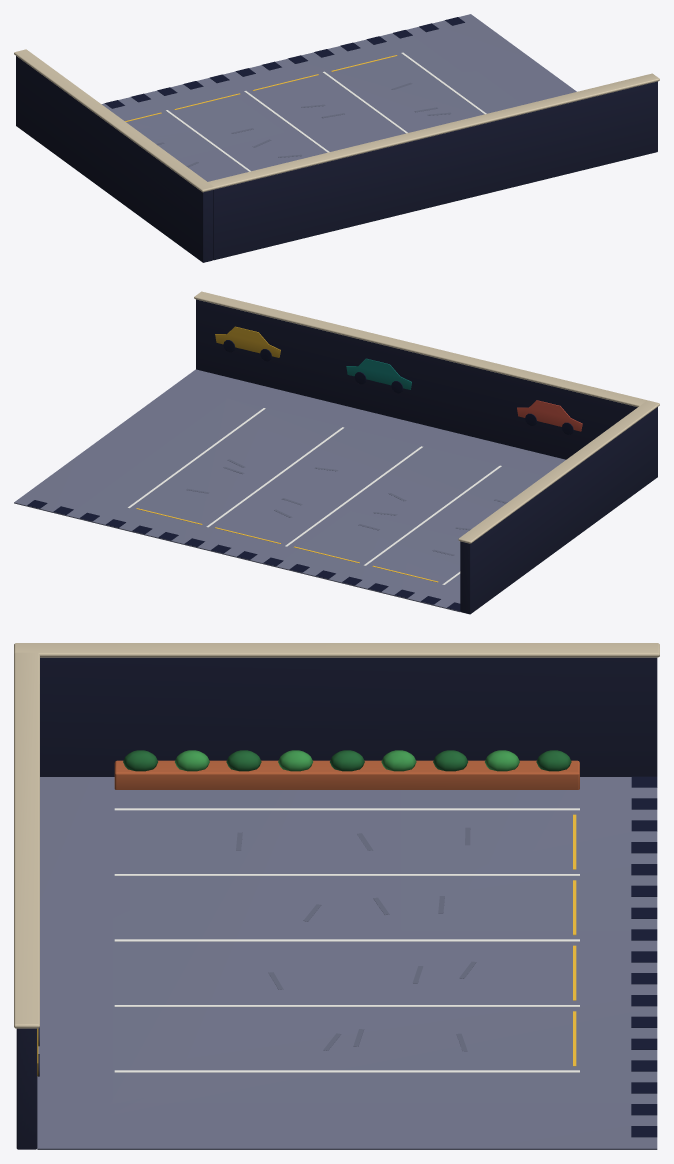
The model's file is SM_Dealer_Lot.fbx.
The picture shows the model from 3 angles, top to bottom: view 1: azimuth 30°, elevation 25°; view 2: azimuth 150°, elevation 25°; view 3: azimuth 270°, elevation 25°; orthographic projection. The views are drawn at different scales.
Parts seen in each view (by area): view 1: SM_Dealer_Lot; view 2: SM_Dealer_Lot; view 3: SM_Dealer_Lot.
Boxes of the visible parts, x1,y1,x2,y2 form: SM_Dealer_Lot: (14, 14, 659, 262); SM_Dealer_Lot: (14, 291, 659, 614); SM_Dealer_Lot: (14, 643, 659, 1149).
Bounding box in the file's own units: 1750 × 270 × 1250.
